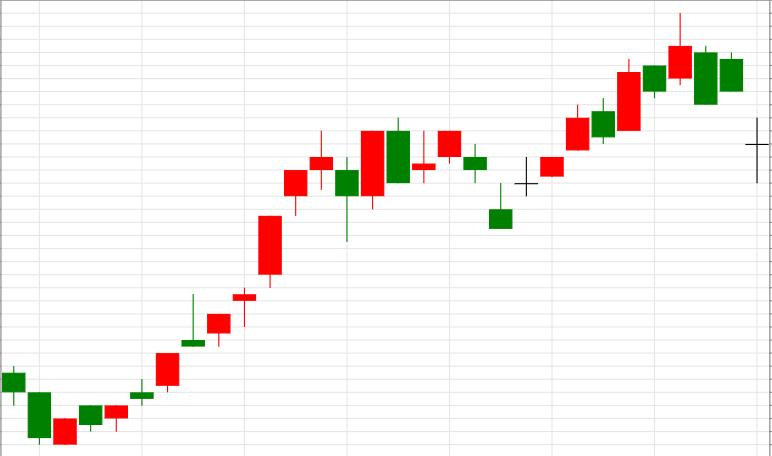evening_star_fall: (54, 131, 359, 445)
